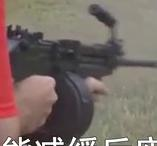gun: (1, 1, 157, 146)
